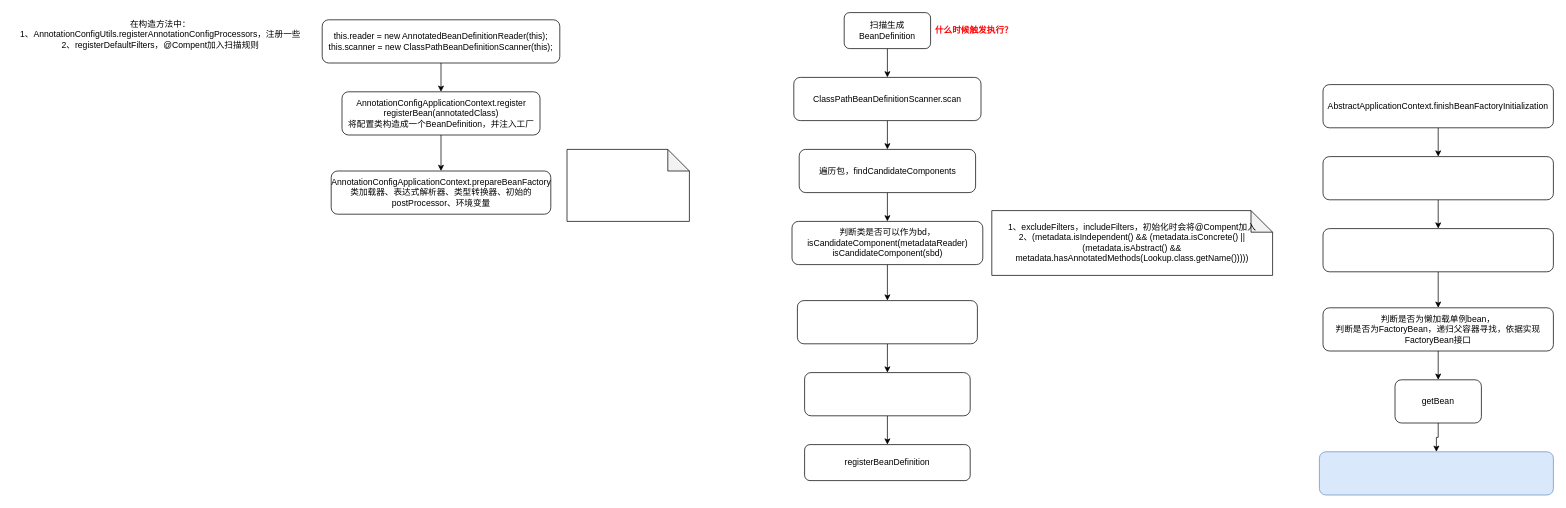
This 1566x508 diagram has some shape labels left out. Each missing label, with the box of its shape:
ApplicationListenerDetector: (566, 149, 689, 221)
checkCandidate 是否已经存在bean，存在则判断是否兼容（是否同一个类文件生成）: (804, 372, 970, 416)
DefaultListableBeanFactory.preInstantiateSingletons: (1322, 156, 1553, 200)
设置bd的默认属性，解析Lazy、Primary、DependsOn、Role、Description注解，填充属性: (797, 300, 977, 344)
遍历beanNames getMergedLocalBeanDefinition，生成合并bean，会递归寻找父容器，合并bean属性值: (1322, 228, 1553, 272)
遍历生成后的单例bean 执行SmartInitializingSingleton.afterSingletonsInstantiated: (1319, 451, 1553, 495)
